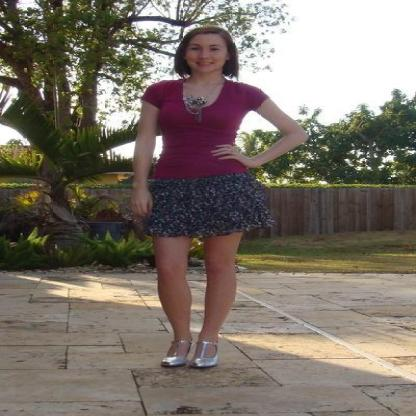dress: (148, 173, 259, 237)
shirt: (141, 79, 268, 180)
shoe: (194, 345, 222, 366)
